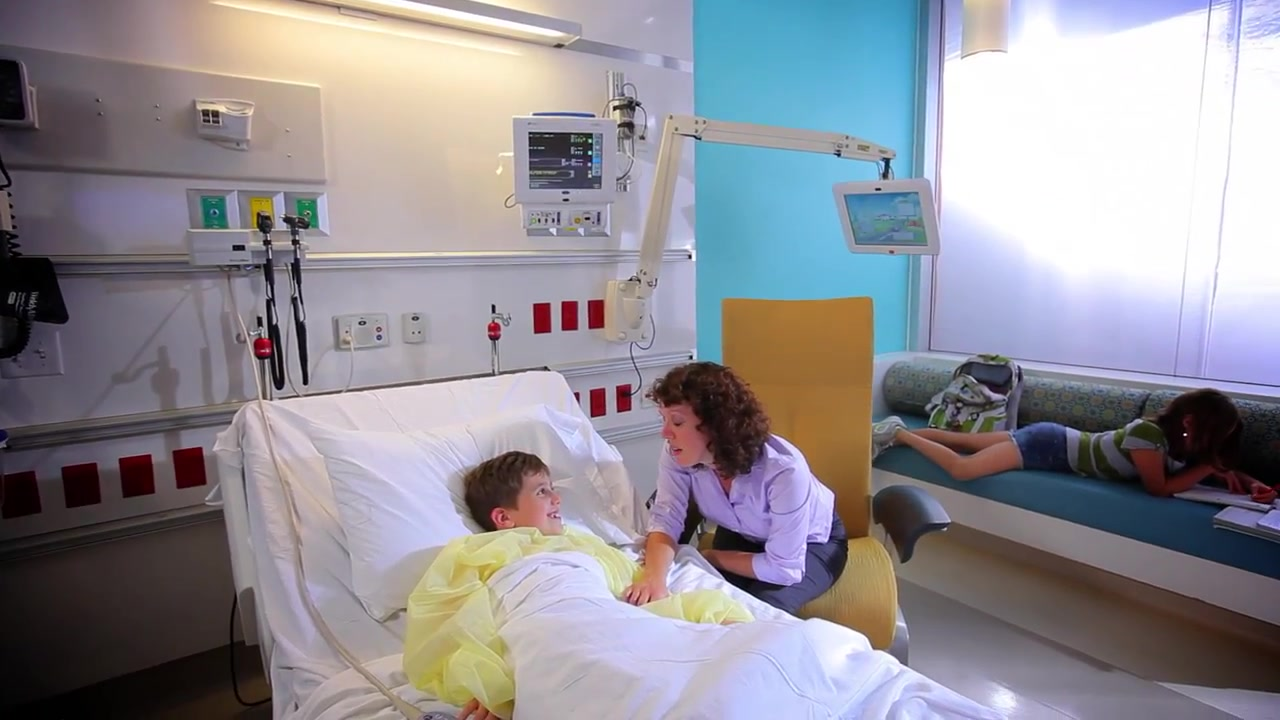bedside_monitor: (512, 114, 618, 209)
chair: (646, 295, 951, 670)
computer: (830, 181, 941, 262)
hospital_bed: (214, 368, 1027, 720)
iv_pole: (235, 313, 276, 401), (487, 303, 517, 373)
light_switch: (23, 326, 62, 377)
patient: (418, 452, 774, 720)
sofa: (868, 359, 1280, 628)
visitor: (623, 363, 849, 614), (872, 387, 1280, 505)
